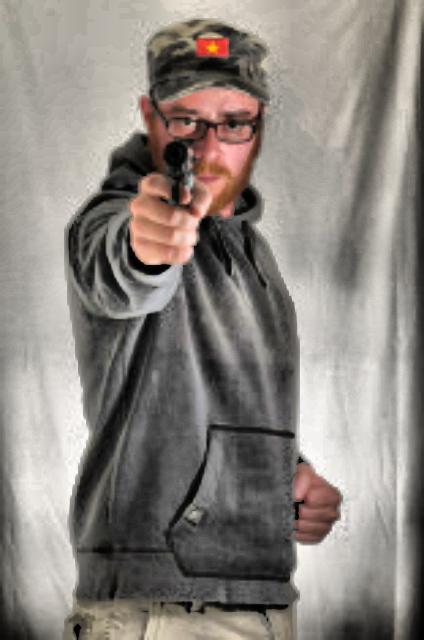pistol: (158, 133, 190, 201)
